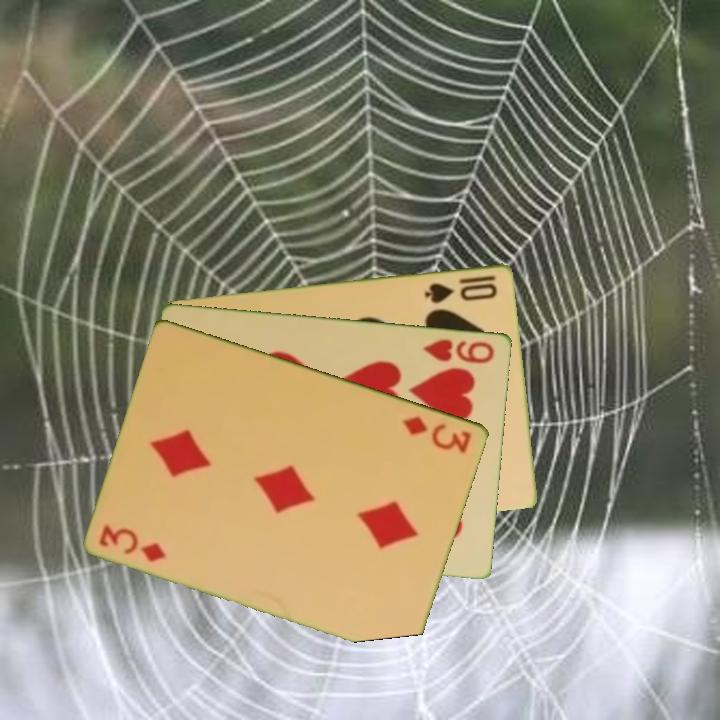10s: (421, 271, 501, 306)
3d: (399, 412, 475, 456), (96, 521, 170, 565)
9h: (419, 334, 498, 366)
